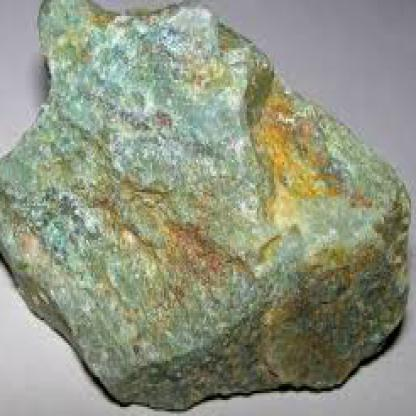Metamorphic_Quartize: (1, 0, 413, 414)
